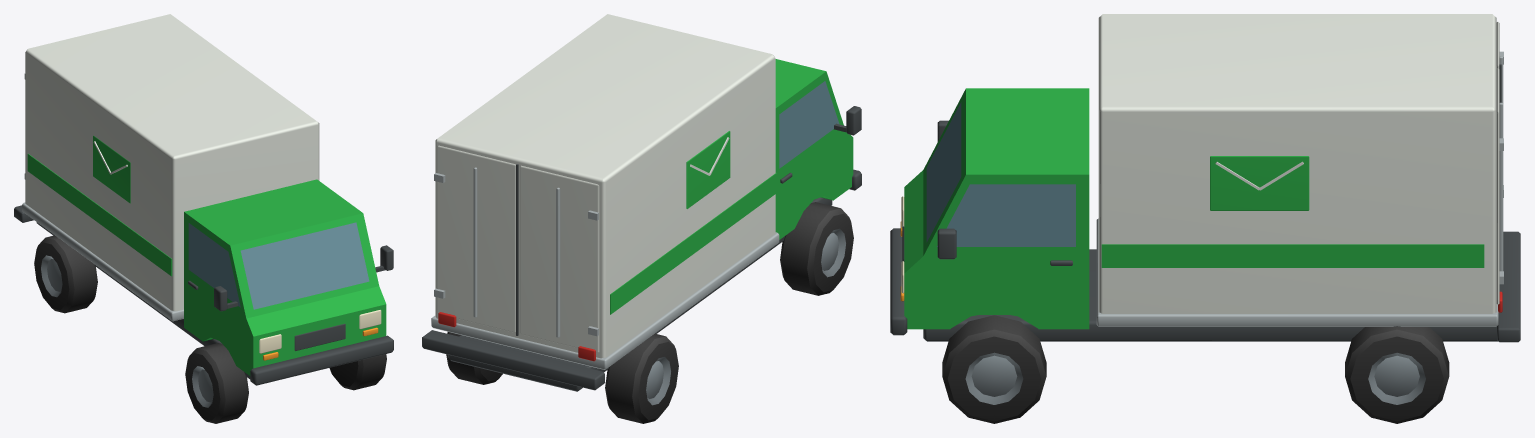
File: camion.glb
3 views of the same model, side by side, from view 1: azimuth 30°, elevation 25°; view 2: azimuth 150°, elevation 25°; view 3: azimuth 270°, elevation 25° (orthographic). The views are drawn at different scales.
Visible parts, largest first — view 1: Camion - caja de carga export, Camion - cabina export, Camion - parabrisas export, Camion - rueda_wheel_front_right export, Camion - rueda_wheel_rear_right export, Camion - franja lateral export, Camion - paragolpes delantero export, Camion - ventanilla export, Camion - borde caja export, Camion - distintivo postal export, Camion - rueda_wheel_front_left export, Camion - parrilla export (+1 smaller); view 2: Camion - caja de carga export, Camion - puerta trasera export, Camion - puerta trasera.001 export, Camion - cabina export, Camion - rueda_wheel_front_right export, Camion - rueda_wheel_rear_right export, Camion - borde caja export, Camion - paragolpes trasero export, Camion - franja lateral export, Camion - ventanilla export, Camion - distintivo postal export, Camion - chasis export (+5 smaller); view 3: Camion - caja de carga export, Camion - cabina export, Camion - franja lateral.001 export, Camion - rueda_wheel_front_left export, Camion - rueda_wheel_rear_left export, Camion - ventanilla.001 export, Camion - chasis export, Camion - borde caja export, Camion - distintivo postal.001 export, Camion - parabrisas export, Camion - paragolpes trasero export, Camion - paragolpes delantero export (+3 smaller).
Part boxes in pixels (x1,y1,x2,y2): Camion - caja de carga export: (25, 14, 319, 311); Camion - cabina export: (184, 179, 386, 375); Camion - parabrisas export: (240, 222, 369, 309); Camion - rueda_wheel_front_right export: (185, 343, 248, 423); Camion - rueda_wheel_rear_right export: (34, 235, 97, 313); Camion - franja lateral export: (27, 153, 172, 276); Camion - paragolpes delantero export: (250, 335, 393, 385); Camion - ventanilla export: (188, 223, 240, 307); Camion - borde caja export: (22, 202, 183, 321); Camion - distintivo postal export: (93, 135, 130, 203); Camion - rueda_wheel_front_left export: (329, 354, 386, 390); Camion - parrilla export: (294, 323, 345, 350); Camion - caja de carga export: (435, 14, 775, 358); Camion - puerta trasera export: (520, 165, 599, 352); Camion - puerta trasera.001 export: (437, 145, 515, 332); Camion - cabina export: (775, 59, 853, 239); Camion - rueda_wheel_front_right export: (780, 202, 853, 295); Camion - rueda_wheel_rear_right export: (605, 333, 678, 423); Camion - borde caja export: (431, 232, 779, 369); Camion - paragolpes trasero export: (422, 330, 604, 390); Camion - franja lateral export: (610, 173, 776, 314); Camion - ventanilla export: (779, 81, 839, 168); Camion - distintivo postal export: (686, 131, 730, 208); Camion - chasis export: (448, 197, 832, 391); Camion - caja de carga export: (1098, 14, 1496, 313); Camion - cabina export: (904, 88, 1089, 329); Camion - franja lateral.001 export: (1101, 244, 1484, 267); Camion - rueda_wheel_front_left export: (942, 315, 1046, 423); Camion - rueda_wheel_rear_left export: (1345, 326, 1449, 423); Camion - ventanilla.001 export: (937, 184, 1075, 246); Camion - chasis export: (923, 249, 1498, 341); Camion - borde caja export: (1096, 218, 1498, 326); Camion - distintivo postal.001 export: (1210, 156, 1309, 210); Camion - parabrisas export: (926, 102, 961, 242); Camion - paragolpes trasero export: (1497, 231, 1520, 342); Camion - paragolpes delantero export: (890, 228, 907, 335).
Bounding box in the file's own units: 2.83 × 3.63 × 6.65.
9 materials, 1 textured.
